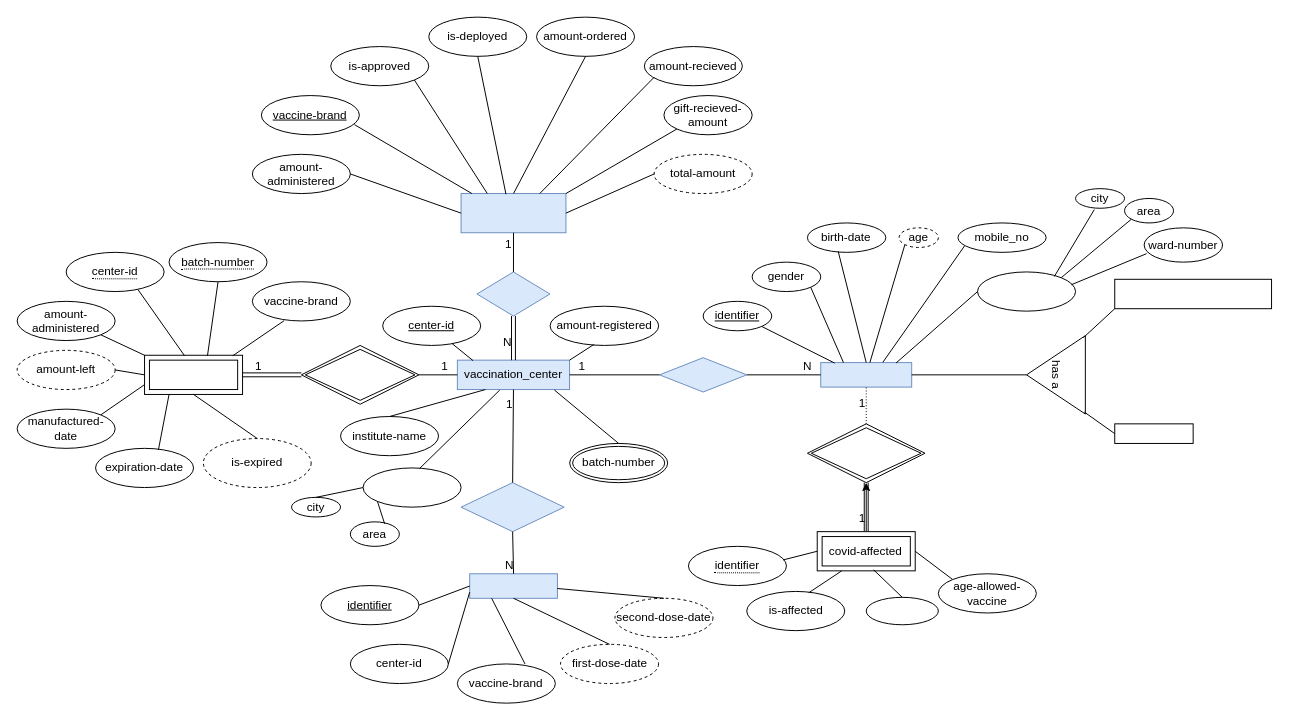
This 1289x720 diagram has some shape labels left out. Here are the shapes that lost their labels. From the top down, the box of each, then its label:
(460, 193, 566, 233): distribution_center
(476, 271, 550, 316): distributes
(977, 271, 1076, 311): address
(1114, 278, 1272, 309): Birth_registration_number
(144, 354, 243, 394): storage
(300, 344, 419, 404): store
(659, 357, 747, 392): register
(820, 362, 912, 387): person
(806, 423, 925, 483): is_affected
(1114, 423, 1193, 443): NID
(362, 467, 461, 507): center-location
(460, 482, 564, 532): vaccinate_with
(469, 573, 557, 598): vaccine
(865, 596, 938, 625): serial
